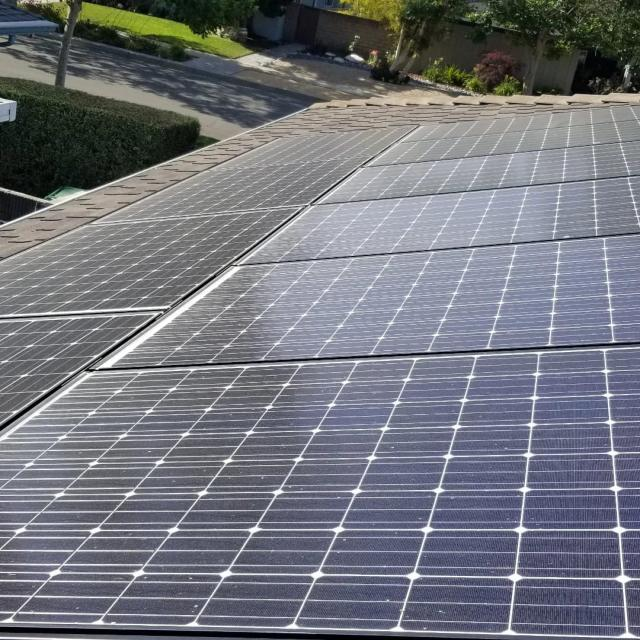dust-solar-panel: (0, 100, 640, 640)
